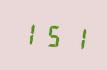five: (42, 19, 64, 50)
one: (18, 17, 40, 48), (65, 21, 87, 52)
